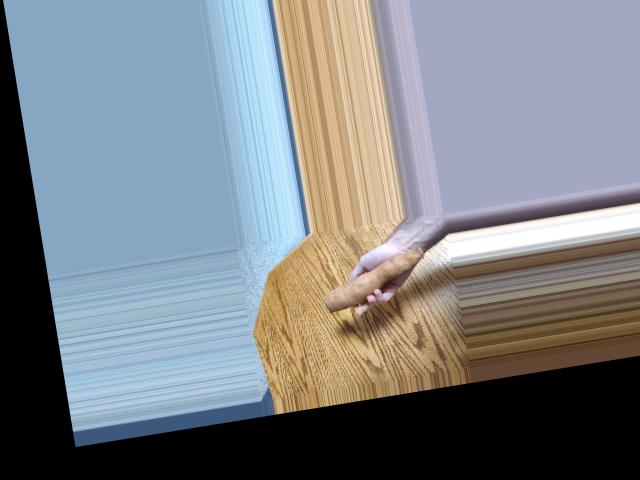sweet_potato: (317, 243, 434, 315)
